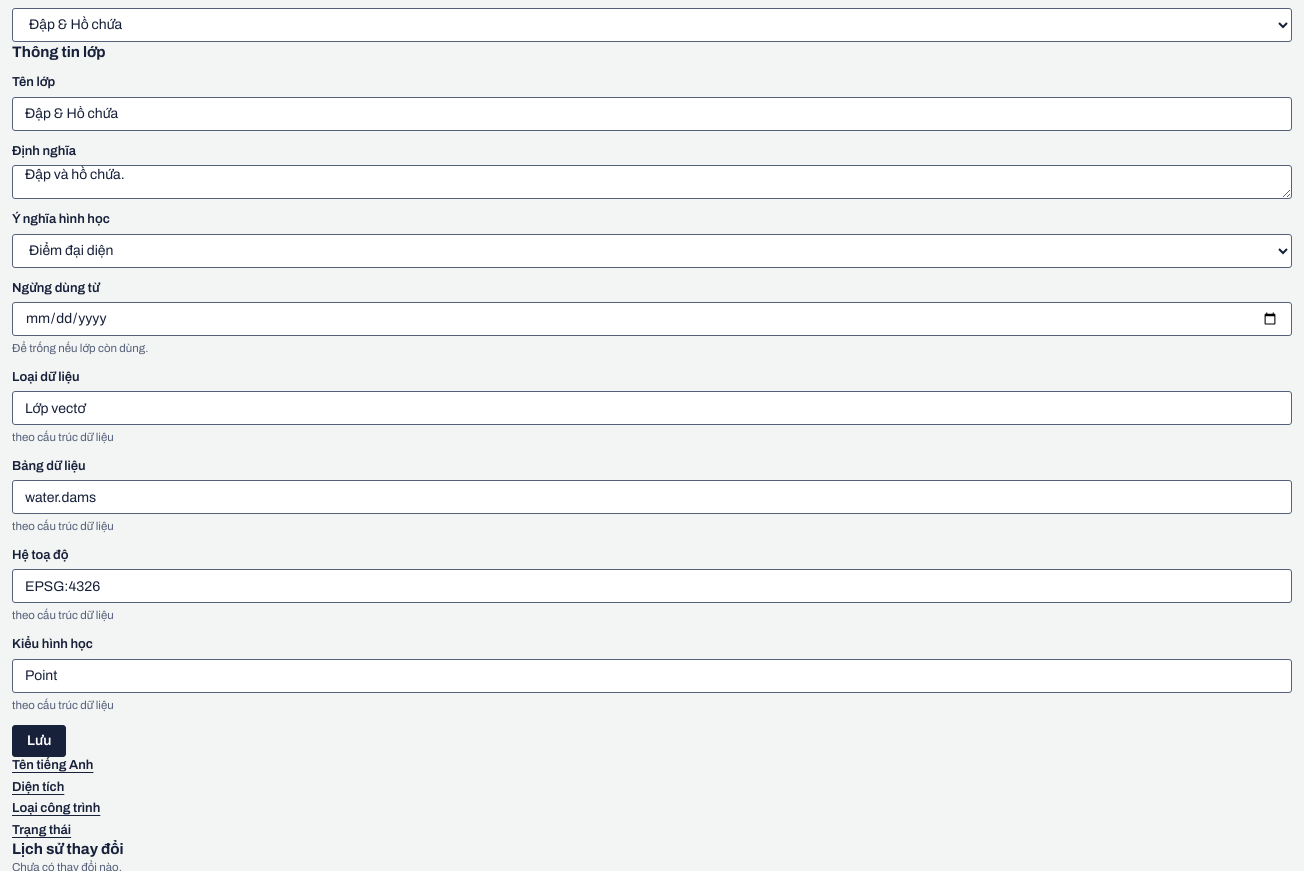
Test: dictionary editor › a 409 reloads the entry and shows the message
Click the button "Tên tiếng Anh" at x=53, y=765, box 12,758 -> 93,772
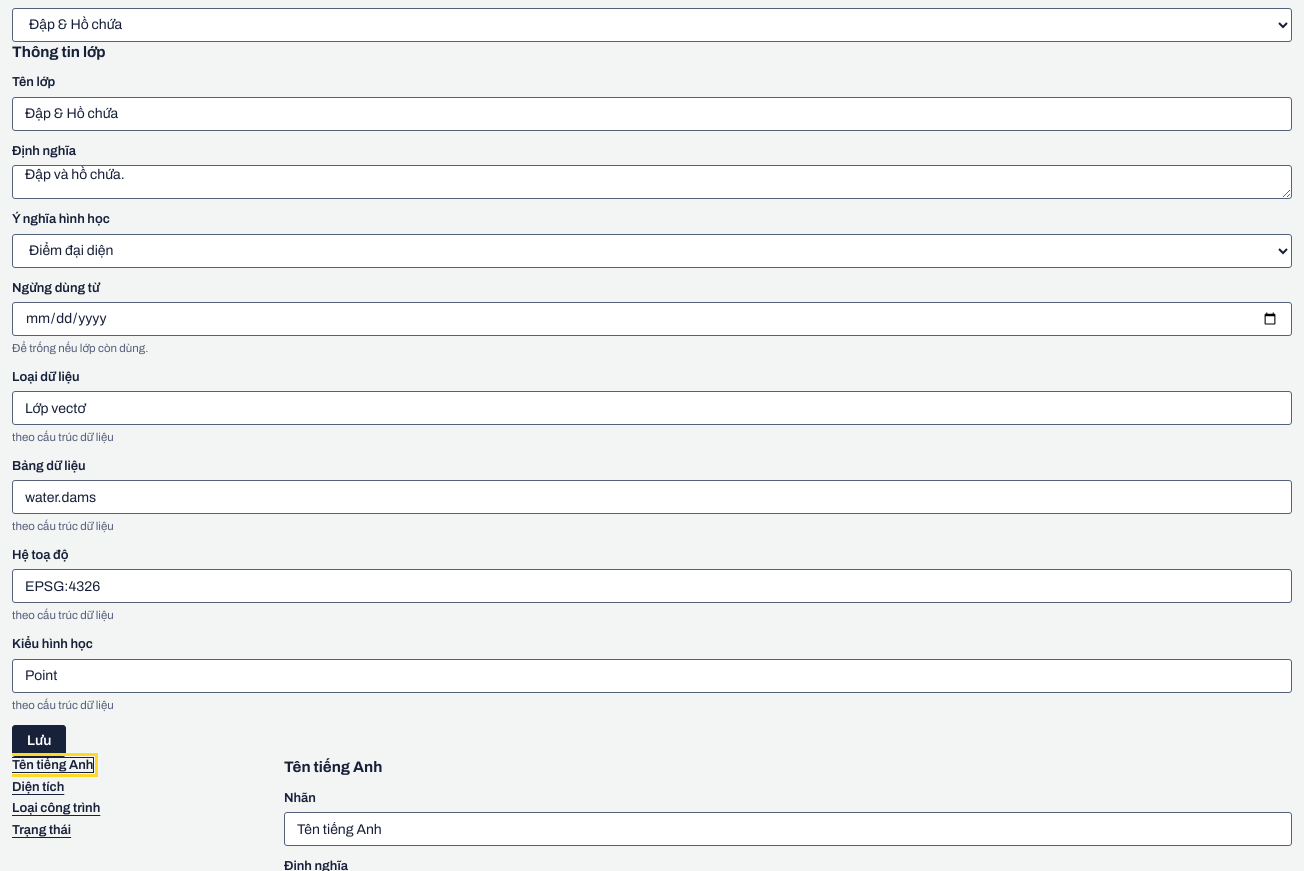
Type "!" into the field labelled "Nhãn" at x=788, y=829, box 284,812 -> 1292,846
(page scrolled)
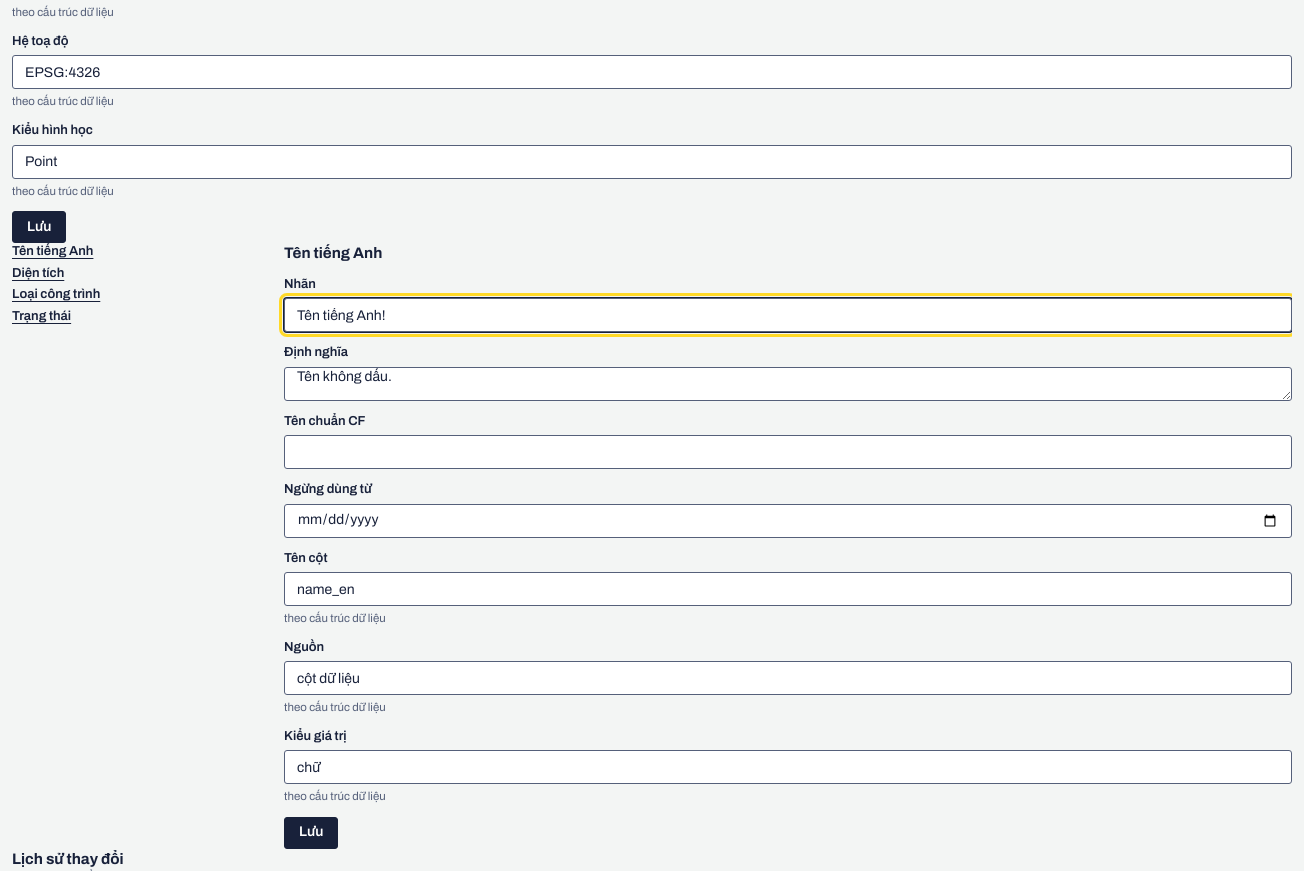
Click the button "Lưu" below "Kiểu giá trị" at x=311, y=833, box 284,817 -> 338,849
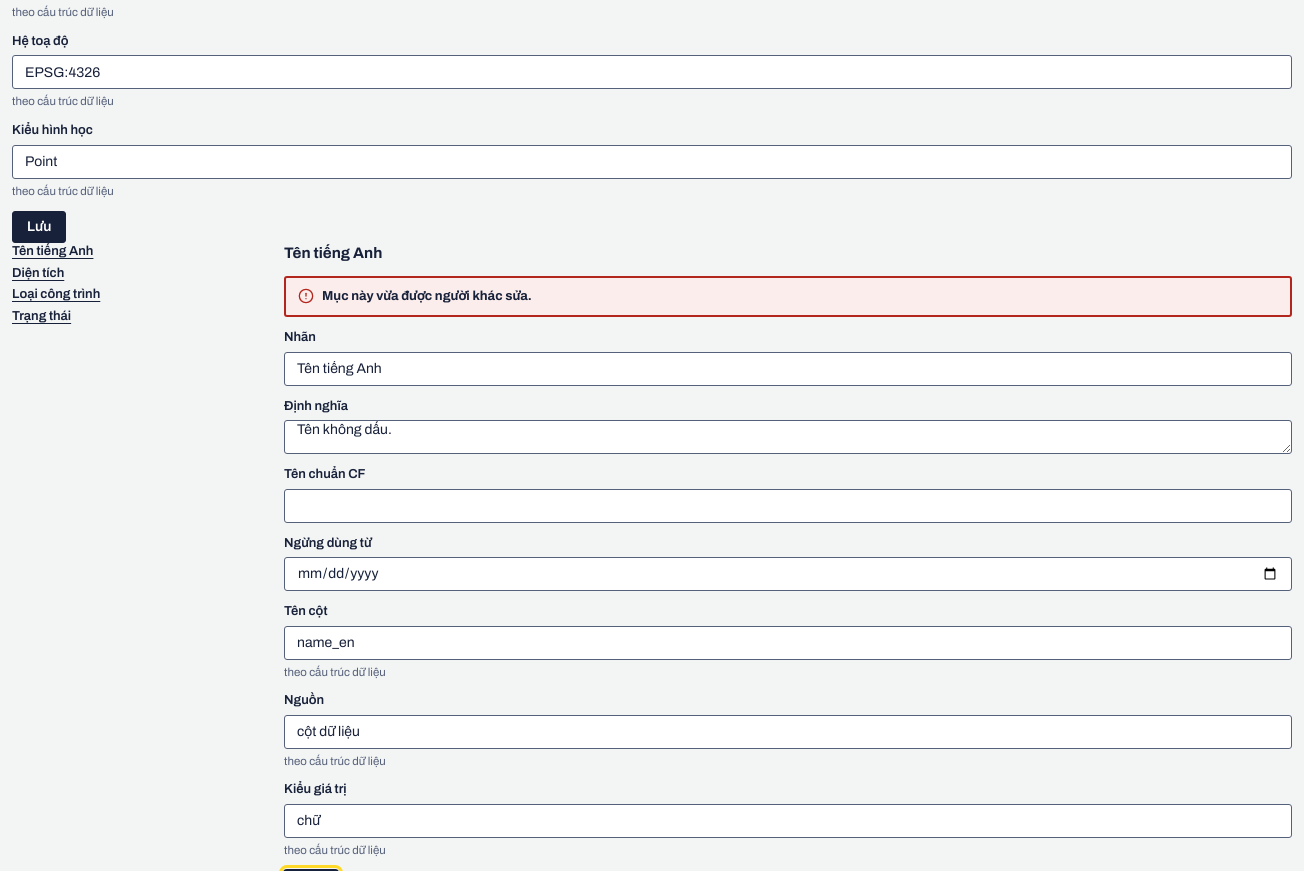
Check: the text "Mục này vừa được người khác sửa." is shown, box 322,288 -> 532,302
